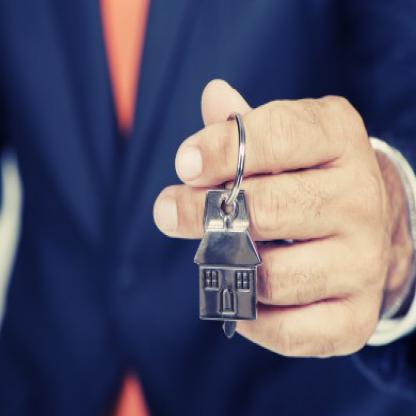keys: (200, 180, 248, 344)
